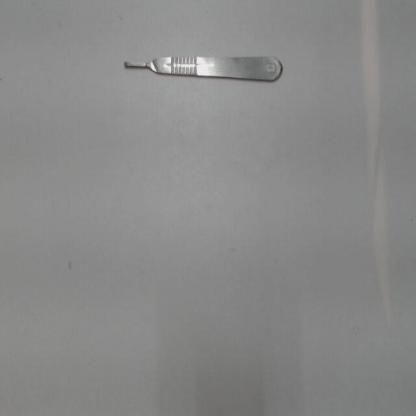No.3 BP Handle: (118, 48, 292, 96)
